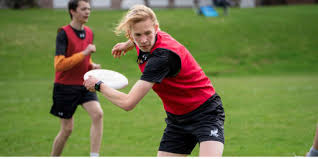disc: (85, 67, 128, 92)
